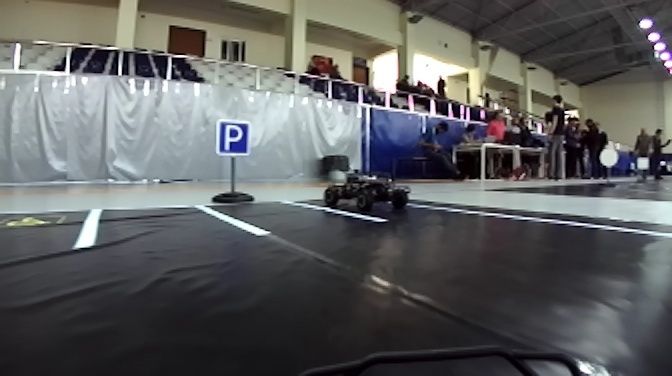park: (214, 117, 253, 158)
